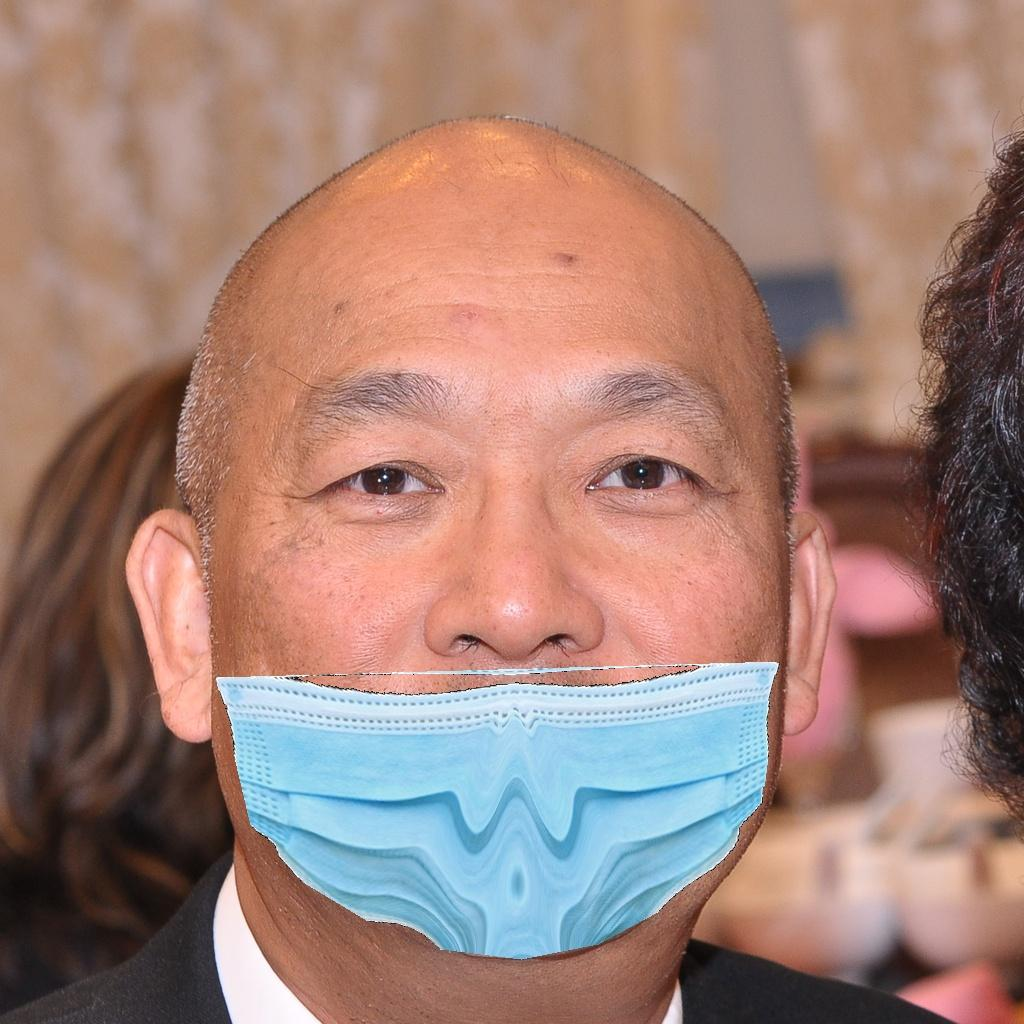Máscara Incorreta: (200, 247, 813, 986)
